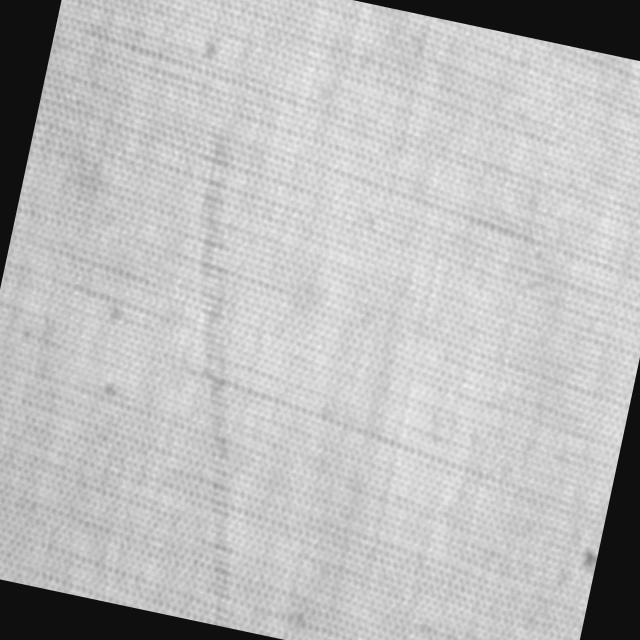oil spot: (106, 126, 327, 624)
